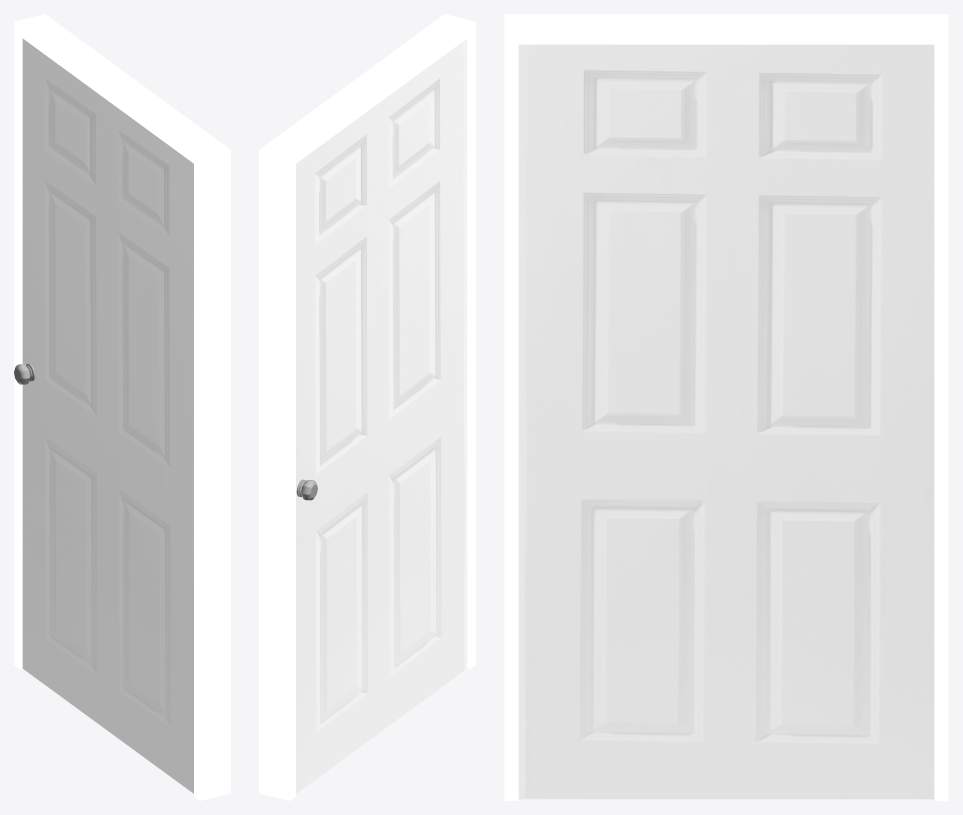
The model's file is solid_l_swing_walkin.e644a39e.gltf.
3 views of the same model, side by side, from view 1: azimuth 30°, elevation 25°; view 2: azimuth 150°, elevation 25°; view 3: azimuth 270°, elevation 25° (orthographic). The views are drawn at different scales.
Visible parts, largest first — view 1: doors, trims; view 2: doors, trims; view 3: doors, trims.
Boxes of the visible parts, x1,y1,x2,y2 form: doors: [22, 38, 193, 793]; trims: [14, 14, 230, 800]; doors: [296, 39, 467, 793]; trims: [259, 14, 475, 800]; doors: [518, 44, 934, 799]; trims: [504, 14, 948, 800].
Bounding box in the file's own units: 0.4039 × 6.01 × 3.14.
3 materials, 1 textured.
